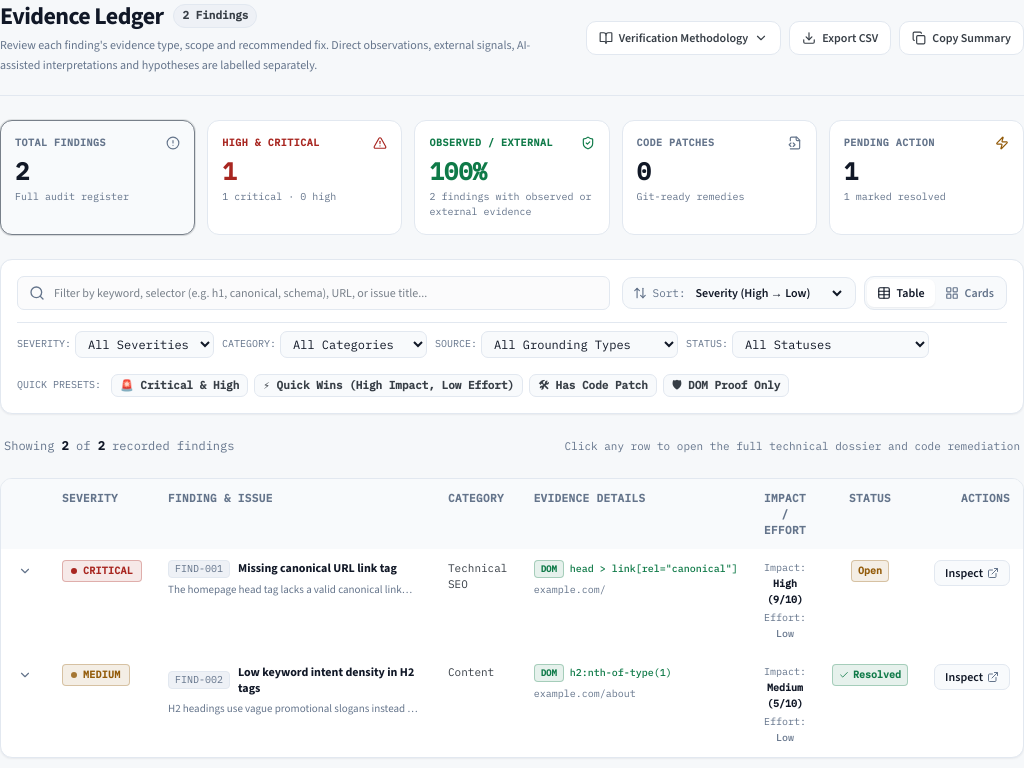
Test: Findings (Evidence Ledger) › toggles between Table view and Cards view
Expected: the table is shown, [1, 478, 1023, 756]
// Switch to cards view
Click the button "Cards" at (969, 292), box [935, 278, 1004, 306]
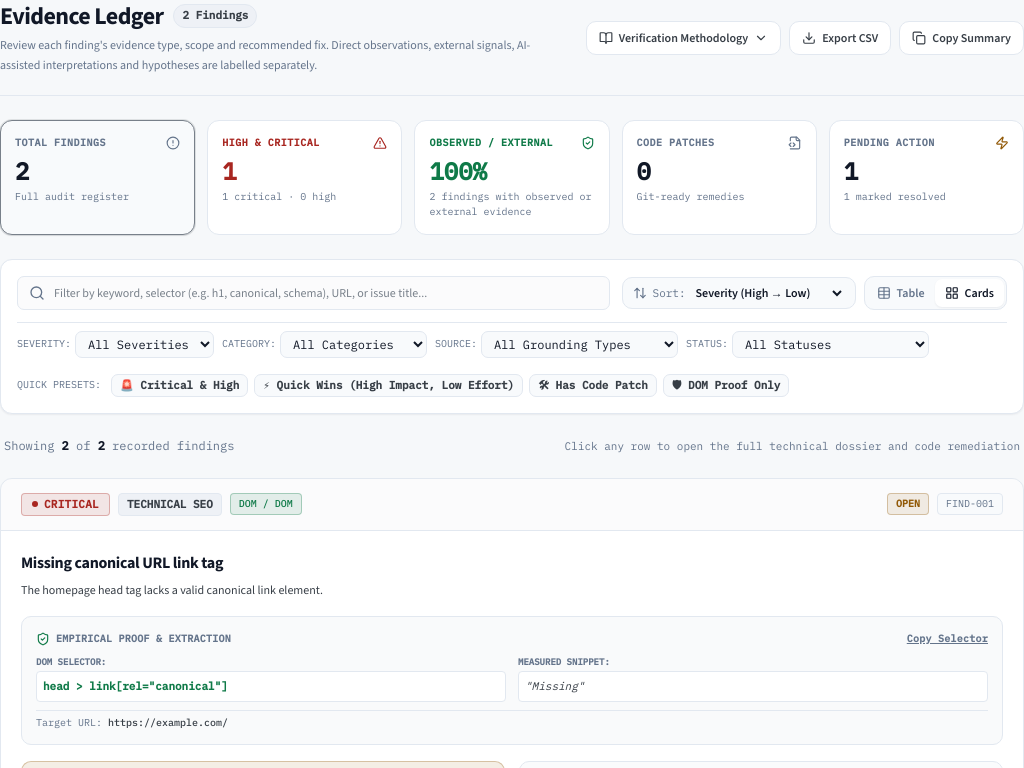
Expected: the heading "Missing canonical URL link tag" is shown, [21, 552, 223, 573]
Now the table is gone
